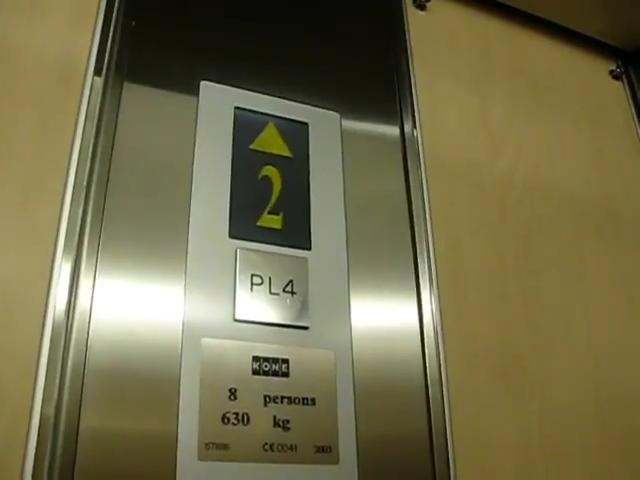PL4: (234, 246, 311, 329)
led: (229, 105, 312, 252)
